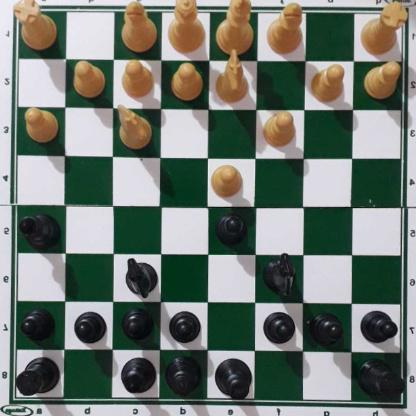black-bishop: (16, 215, 61, 252), (118, 360, 158, 397)
black-king: (213, 358, 254, 404)
black-knight: (263, 255, 297, 299), (124, 261, 156, 300)
black-pawn: (360, 311, 396, 347), (214, 214, 247, 250), (263, 314, 295, 349), (168, 311, 199, 347), (20, 312, 54, 344), (311, 315, 342, 350), (121, 310, 152, 345), (73, 312, 104, 346)
black-queen: (164, 354, 202, 400)
black-rook: (358, 361, 402, 406), (12, 358, 59, 400)
white-bishop: (264, 0, 306, 55), (120, 5, 155, 53)
white-king: (214, 0, 254, 58)
white-knight: (214, 50, 249, 106), (115, 108, 150, 152)
white-pawn: (310, 65, 346, 105), (364, 64, 400, 103), (21, 109, 58, 145), (260, 112, 295, 150), (120, 62, 154, 100), (71, 64, 105, 101), (169, 64, 202, 102), (209, 166, 242, 201)
white-queen: (166, 0, 206, 55)
white-rook: (362, 2, 405, 58), (15, 1, 55, 56)
